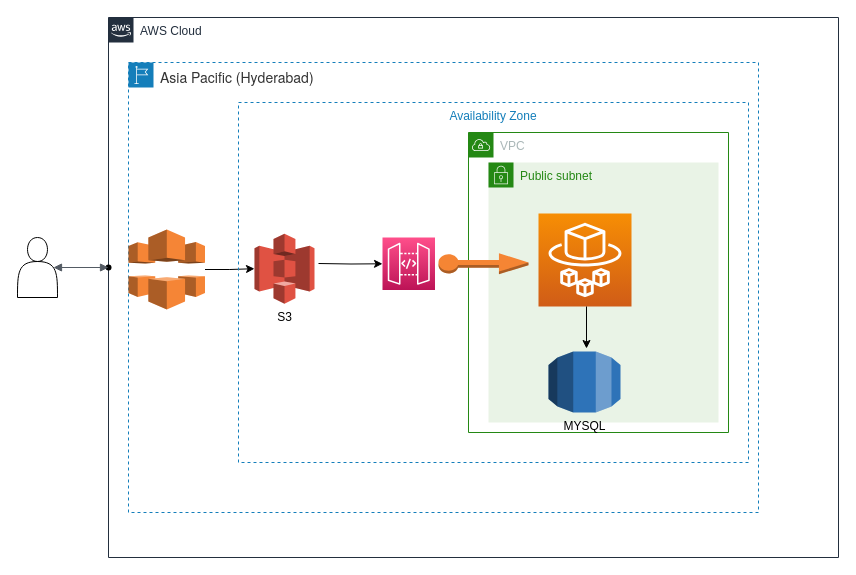
The diagram is 856 pixels wide and 575 high, and some of its shapes have lost their labels. The shapes that lost their labels are listed below. From the top down, each one's centre as x and y in pixels, then its label:
At [166,269]: "CDN".
At [408,263]: "API Gateway".
At [483,263]: "IP".
